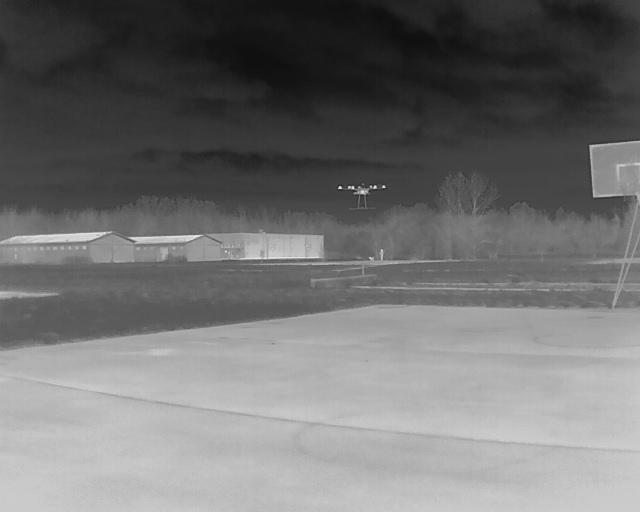drone: (338, 176, 388, 212)
